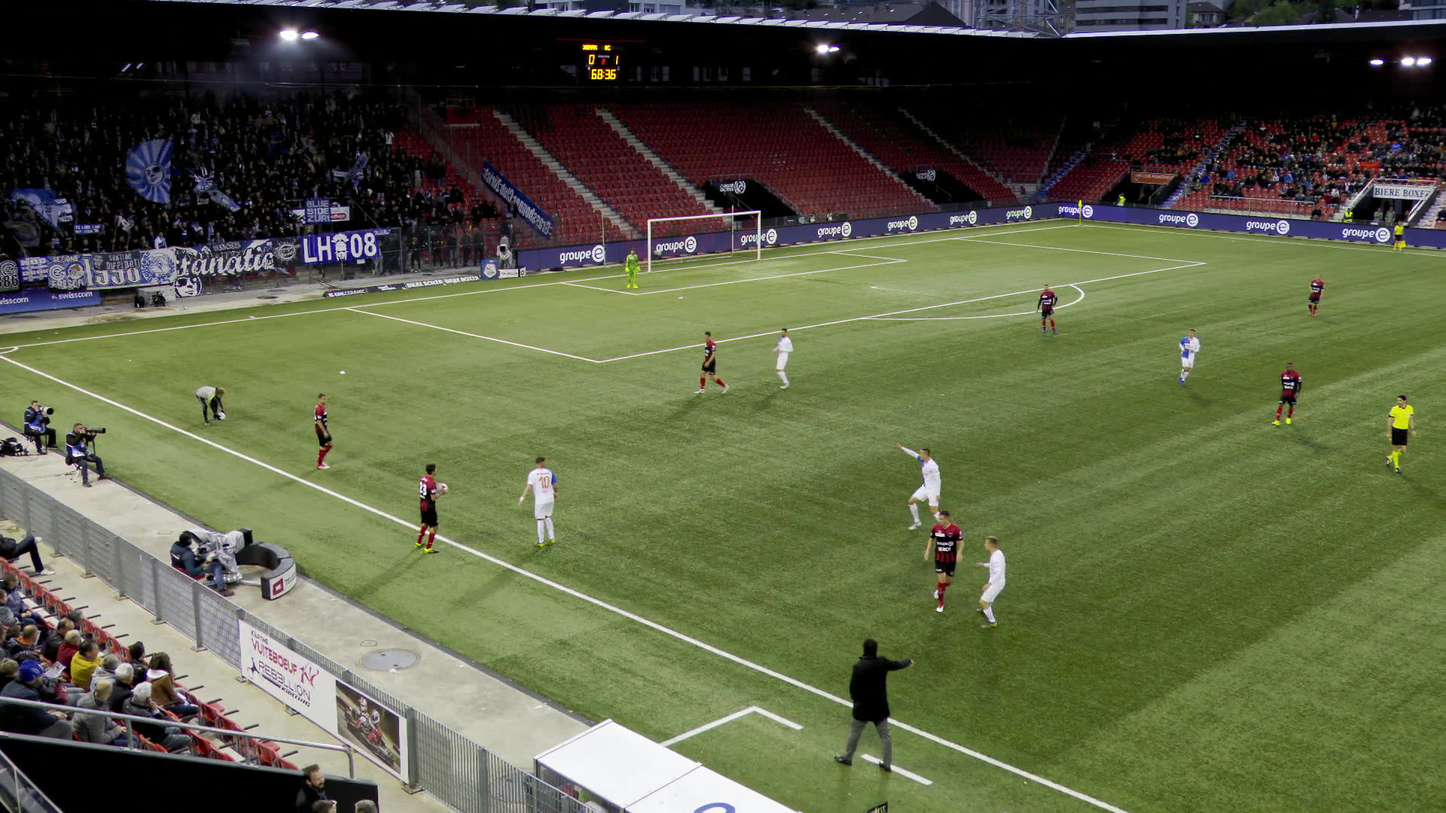ball: (435, 483, 445, 495), (217, 411, 226, 419)
goalkeeper: (625, 248, 642, 289)
player: (515, 458, 563, 550), (924, 509, 965, 612), (896, 445, 942, 533), (974, 532, 1006, 627), (415, 463, 444, 553), (309, 394, 337, 470), (694, 330, 726, 394), (1273, 361, 1303, 427), (768, 327, 797, 391), (1177, 327, 1200, 388), (1036, 284, 1058, 335), (1306, 273, 1325, 317)
referee: (1382, 394, 1417, 476), (1390, 220, 1404, 252)
